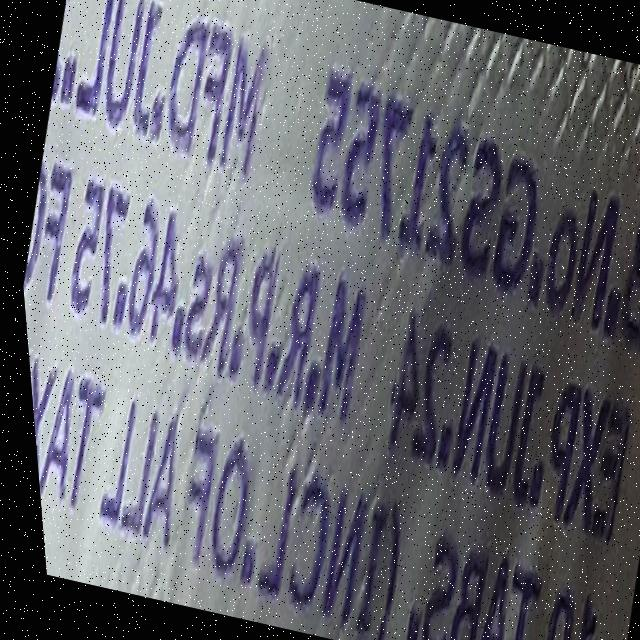sentence: (18, 162, 622, 544), (48, 0, 640, 353), (22, 350, 588, 640)
